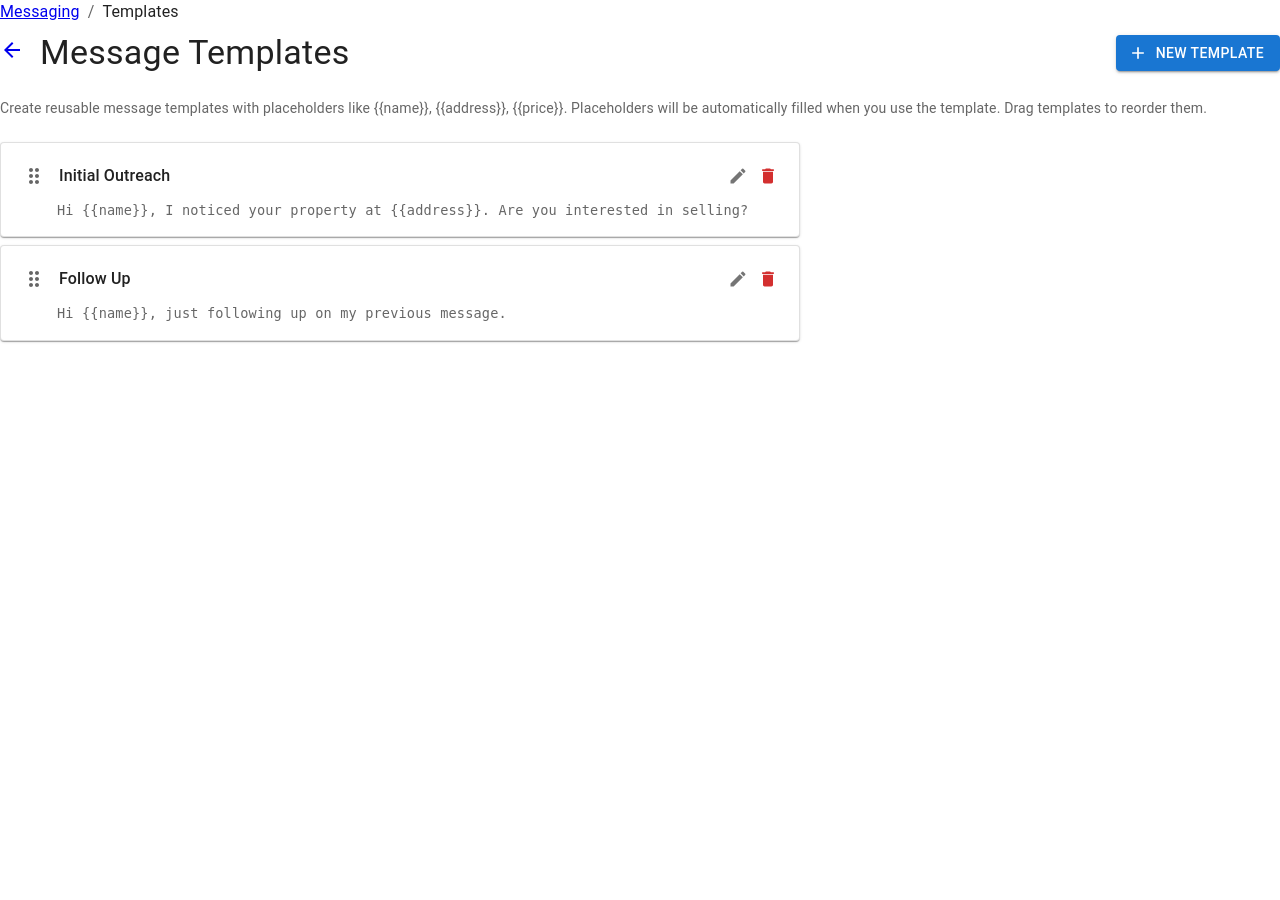
Test case: TemplatesPage › create template › should disable Save button when fields are empty
Step 1. Click the button "New Template" → {"x": 1198, "y": 53}, box [1116,35,1279,71]
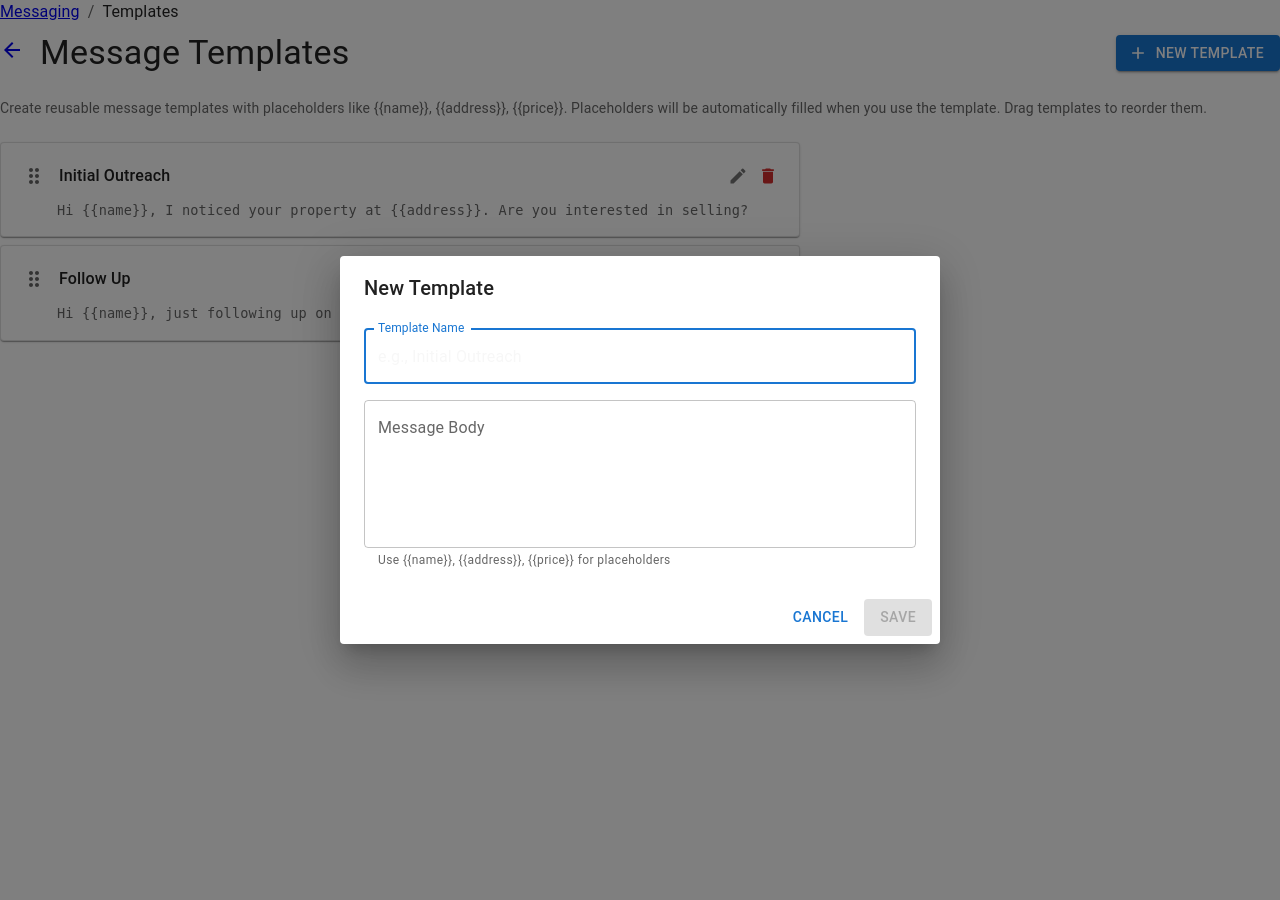
expect the button "Save" is disabled: met, box [864,599,932,636]
